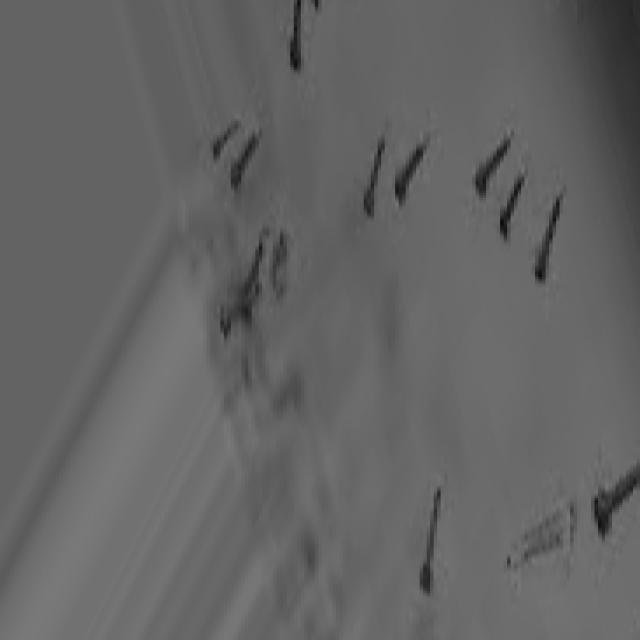larvas: (274, 1, 336, 81), (413, 487, 454, 587), (588, 456, 640, 532), (468, 132, 528, 194), (531, 196, 575, 279), (395, 134, 444, 202), (498, 172, 535, 237), (361, 137, 392, 212), (229, 127, 264, 184), (212, 113, 255, 149)
